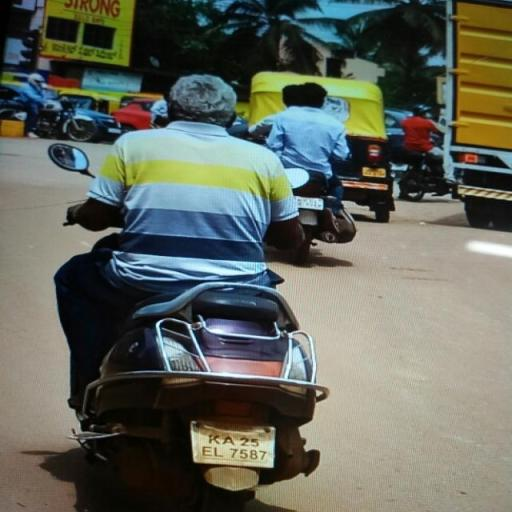bike: (33, 69, 344, 509)
numberplate: (189, 422, 276, 471)
withouthelmet: (172, 75, 237, 123)
